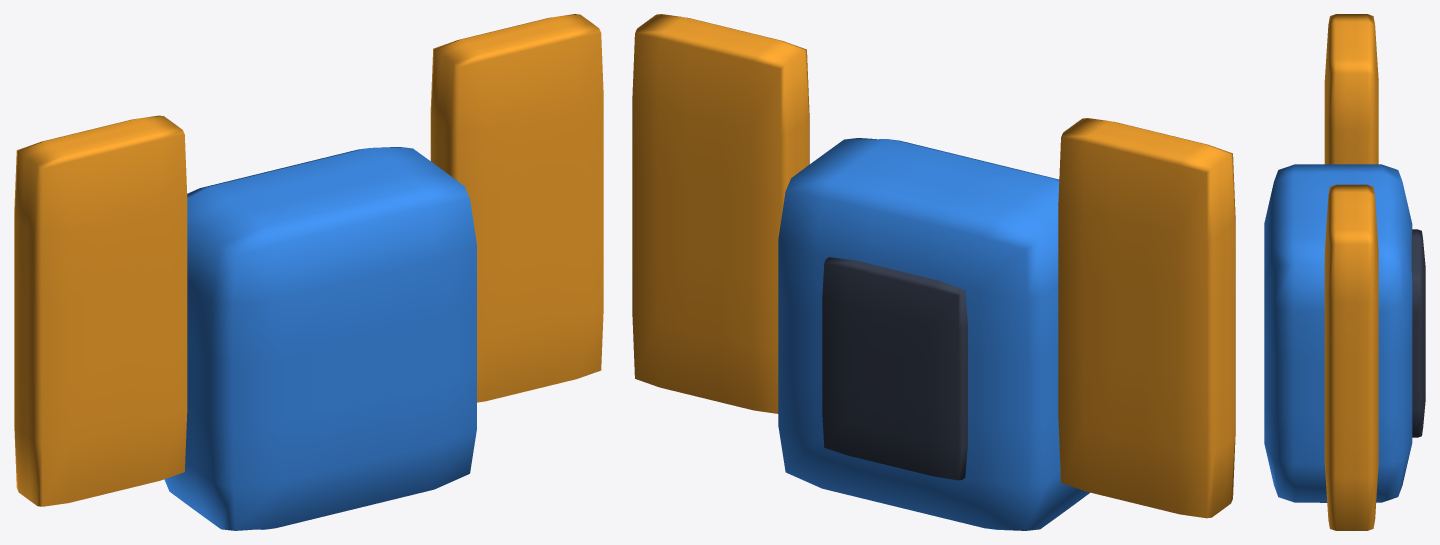
File: core_quantum.obj
3 views of the same model, side by side, from view 1: azimuth 30°, elevation 25°; view 2: azimuth 150°, elevation 25°; view 3: azimuth 270°, elevation 25° (orthographic). The views are drawn at different scales.
Size of the model in its own units: 0.82 by 0.55 by 0.24.
